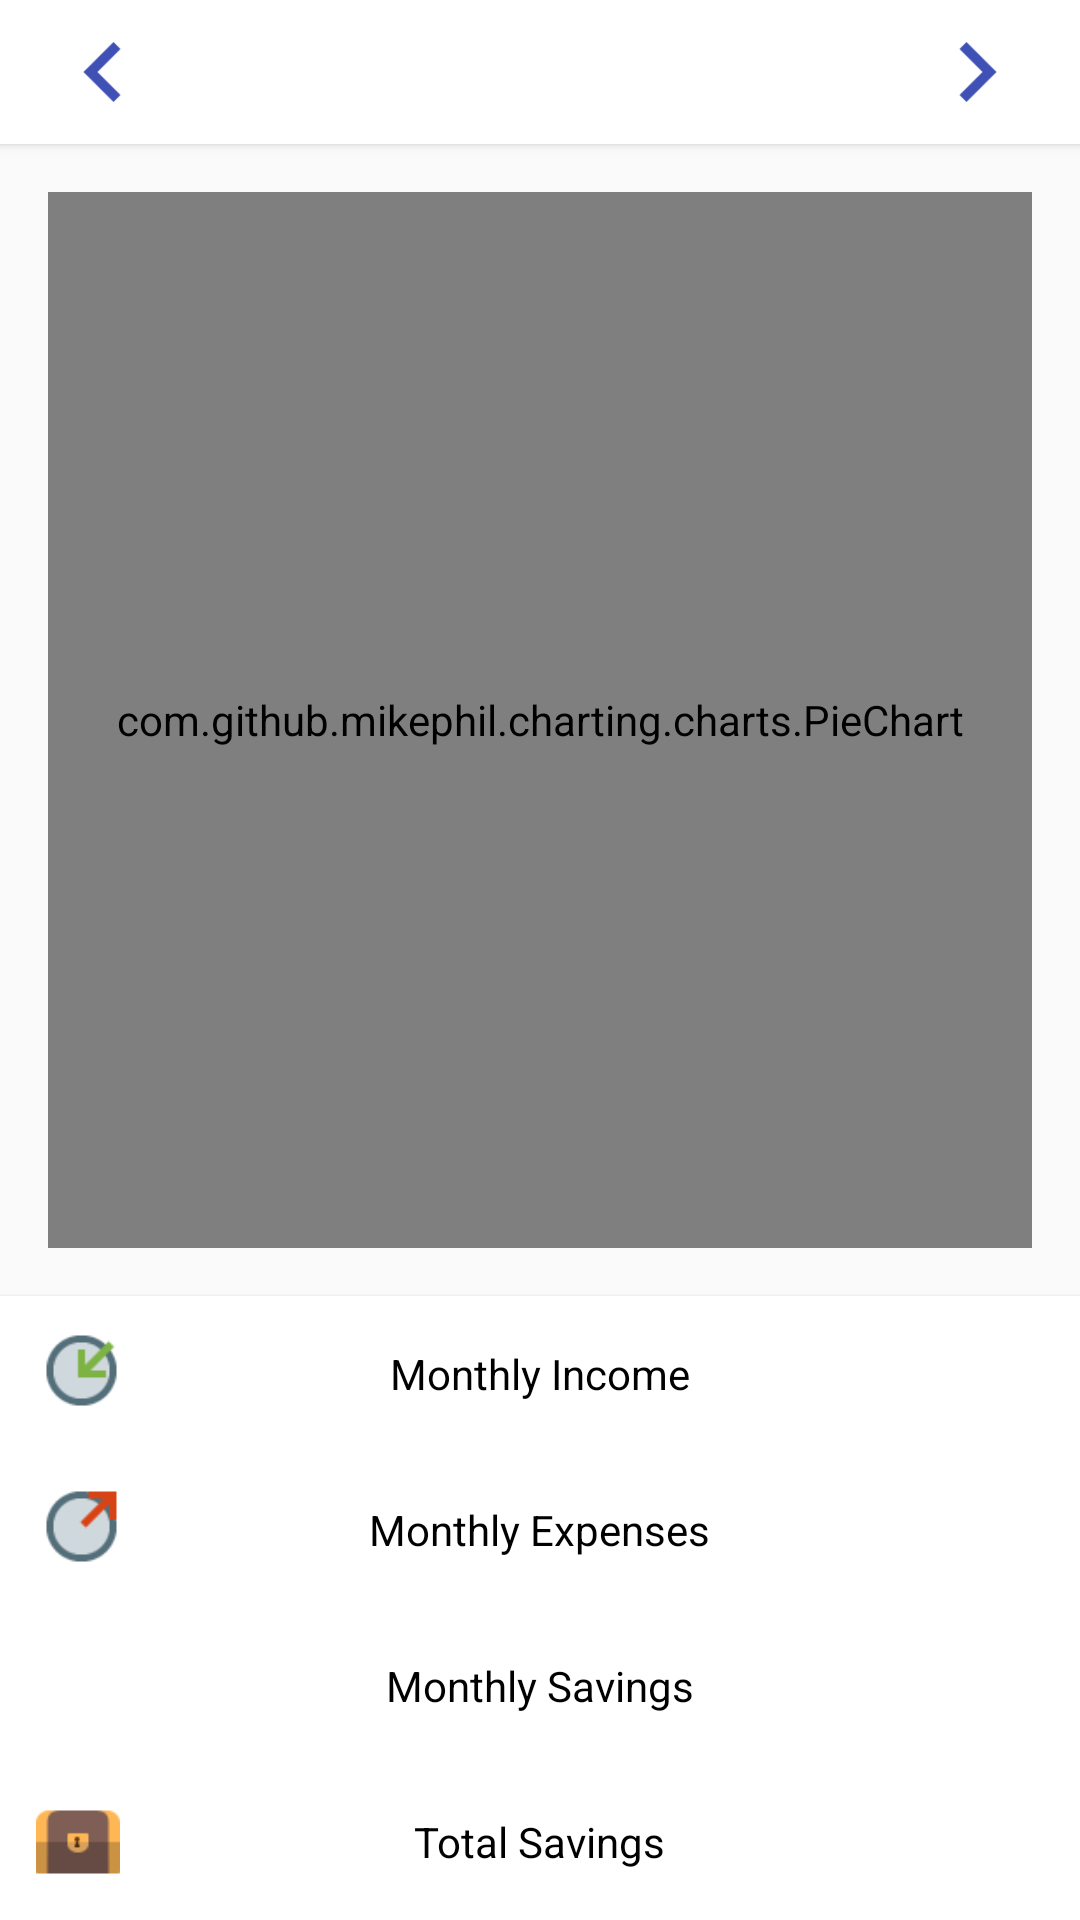

Icon click points for this 1080x1920 phone screenshot, format (x=x, y=y):
left: (x=102, y=72)
right: (x=978, y=72)
total savings: (x=78, y=1842)
view expense: (x=81, y=1526)
view income: (x=81, y=1370)
